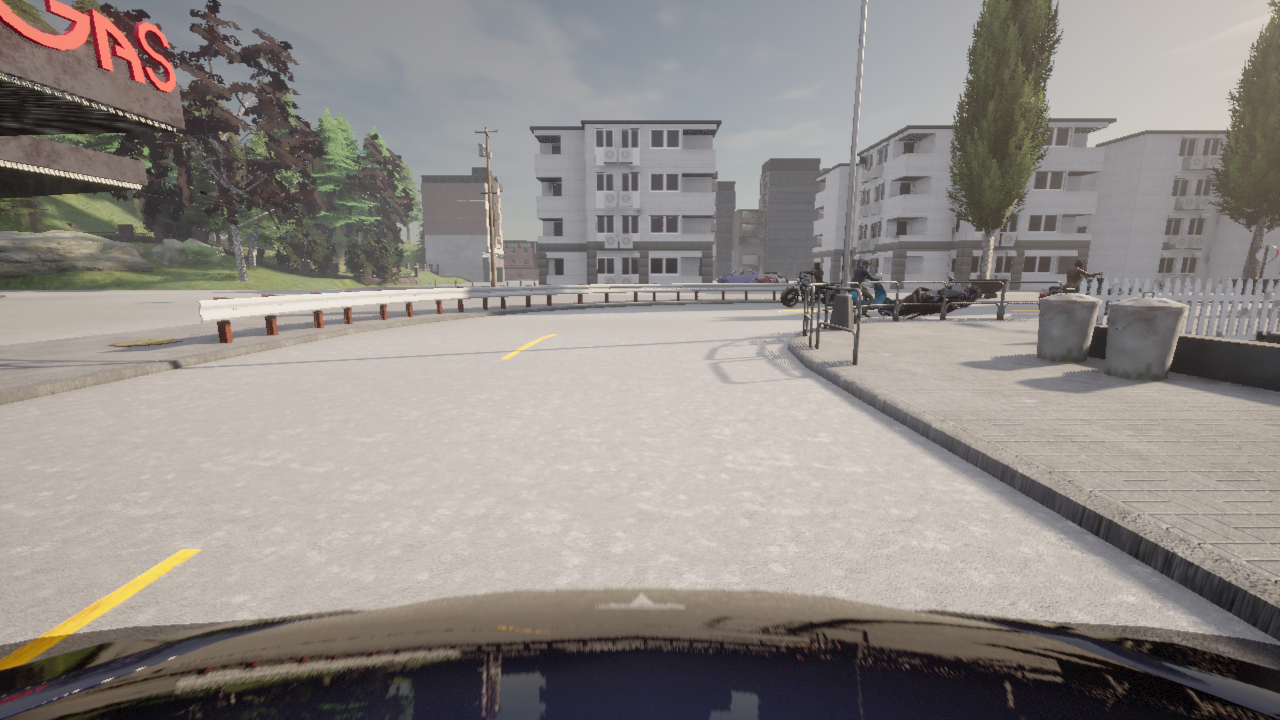cyclist: (0, 588, 1279, 719), (878, 277, 979, 318), (1038, 272, 1120, 314), (780, 271, 839, 306), (847, 273, 891, 315), (717, 269, 758, 282), (753, 272, 788, 282), (754, 279, 774, 280)
